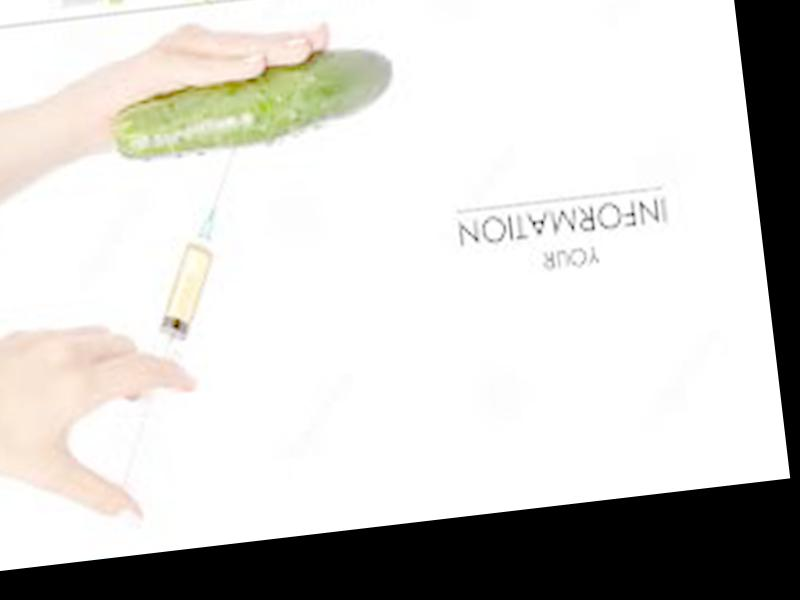Cucumber: (106, 44, 399, 161)
